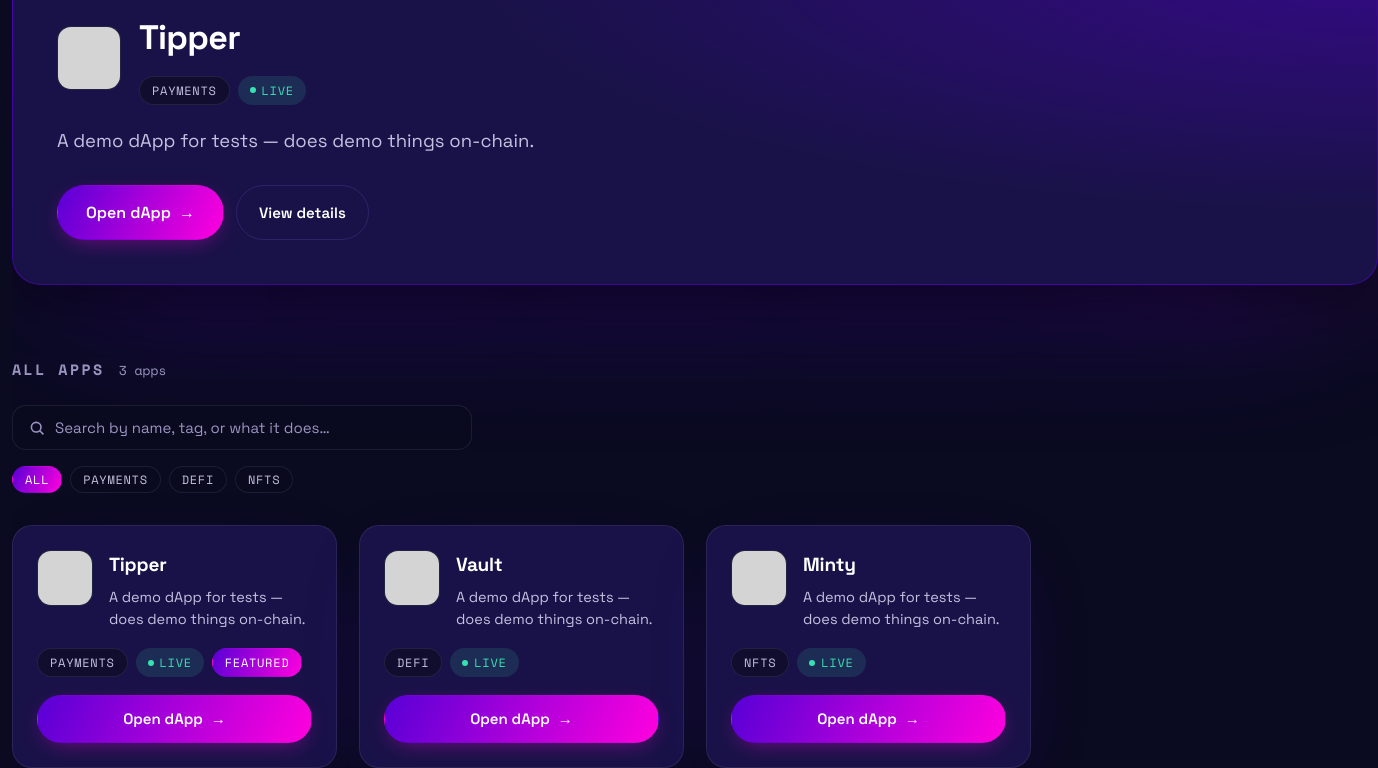
Test: <HomePage> › filters by category chip
(page scrolled)
Click the button with test id "category-defi" at point(198, 480), box [169,466,227,493]
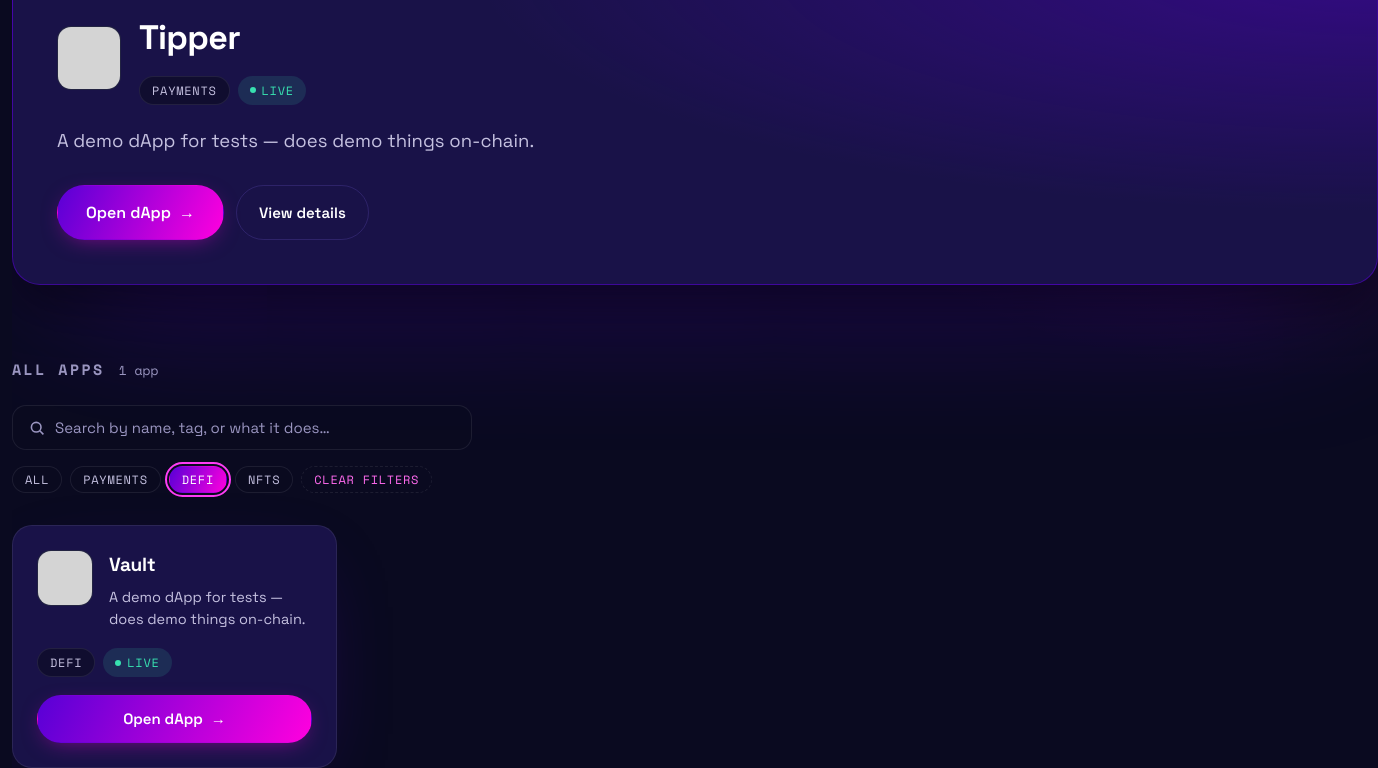
Expected: the element with test id "app-card-vault" is shown, [12,525,337,767]
Expected: the text with test id "apps-count" reads "1 app", [119,360,158,380]
Expected: the element with test id "app-card-tip" is gone
